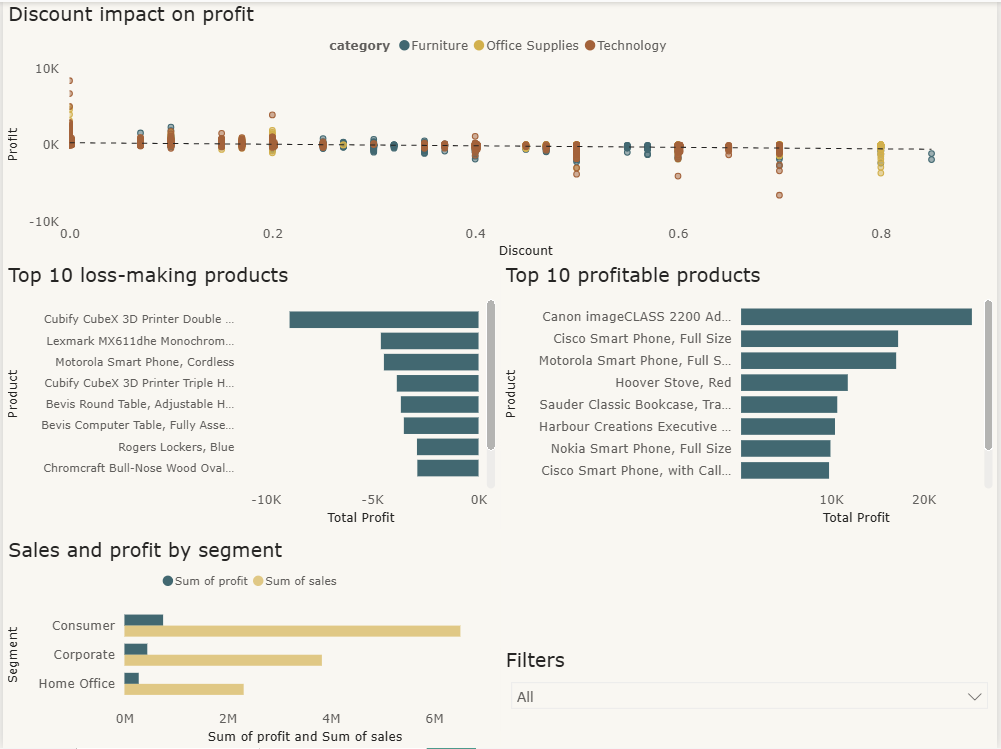

The dashboard page shown, as its layout file describes it:
{"tool":"powerbi","page":{"name":"Detailed Analysis","canvas":[960,720],"ordinal":1},"visuals":[{"type":"scatterChart","title":"Discount impact on profit","fields":{"X":["superstore_sales.discount"],"Y":["superstore_sales.profit"],"Series":["superstore_sales.category"]},"box":[0,0,960.3,252.1],"z":0},{"type":"clusteredBarChart","title":"Top 10 profitable products","fields":{"Category":["superstore_sales.product_name"],"Y":["superstore_sales.Total Profit"]},"box":[480.2,252.1,480.2,257],"z":1000},{"type":"clusteredBarChart","title":"Top 10 loss-making products","fields":{"Category":["superstore_sales.product_name"],"Y":["superstore_sales.Total Profit"]},"box":[0,252.1,480.2,257],"z":2000},{"type":"clusteredBarChart","title":"Sales and profit by segment","fields":{"Category":["superstore_sales.segment"],"Y":["Sum(superstore_sales.profit)","Sum(superstore_sales.sales)"]},"box":[0,517.6,480.2,202.7],"z":3000},{"type":"slicer","title":"Filters","fields":{"Values":["superstore_sales.order_date.Variation.Date Hierarchy.Year","superstore_sales.category","superstore_sales.region"]},"box":[480,624,480,80],"z":4000}]}

Visuals, with their boxes in screenshot pixels (x1, y1, x2, y2), scaled from the page's 960x720 canvas onto the 1001x749 screenshot:
"Discount impact on profit" scatterChart: region(0, 0, 1000, 262)
"Top 10 profitable products" clusteredBarChart: region(501, 262, 1000, 530)
"Top 10 loss-making products" clusteredBarChart: region(0, 262, 501, 530)
"Sales and profit by segment" clusteredBarChart: region(0, 538, 501, 748)
"Filters" slicer: region(500, 649, 1000, 732)
